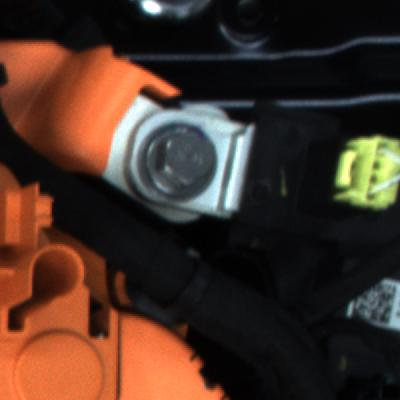nut_b: (123, 115, 226, 205)
